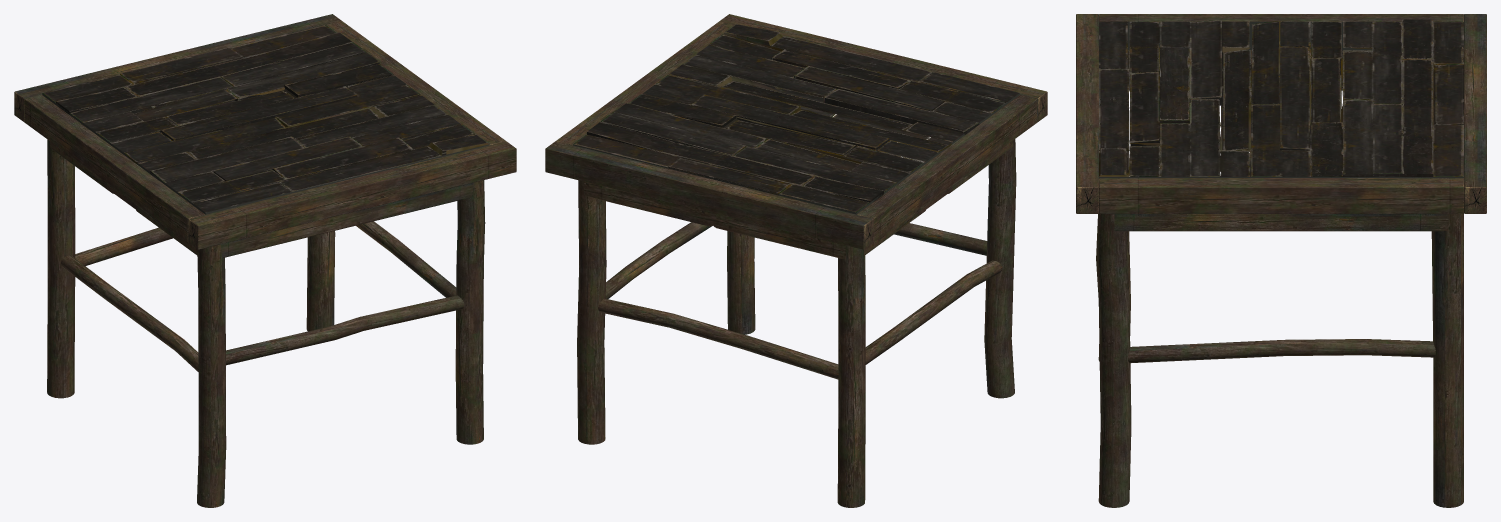
3 views of the same model, side by side, from view 1: azimuth 30°, elevation 25°; view 2: azimuth 150°, elevation 25°; view 3: azimuth 270°, elevation 25° (orthographic). The views are drawn at different scales.
Visible parts, largest first — view 1: SM_BB_T1_Foundation_Large_LOD0; view 2: SM_BB_T1_Foundation_Large_LOD0; view 3: SM_BB_T1_Foundation_Large_LOD0.
Part boxes in pixels (x1,y1,x2,y2): SM_BB_T1_Foundation_Large_LOD0: (14, 14, 516, 507); SM_BB_T1_Foundation_Large_LOD0: (545, 14, 1047, 507); SM_BB_T1_Foundation_Large_LOD0: (1076, 14, 1486, 507).
Bounding box in the file's own units: 3.38 × 3.04 × 3.38.
2 materials, 2 textured.
